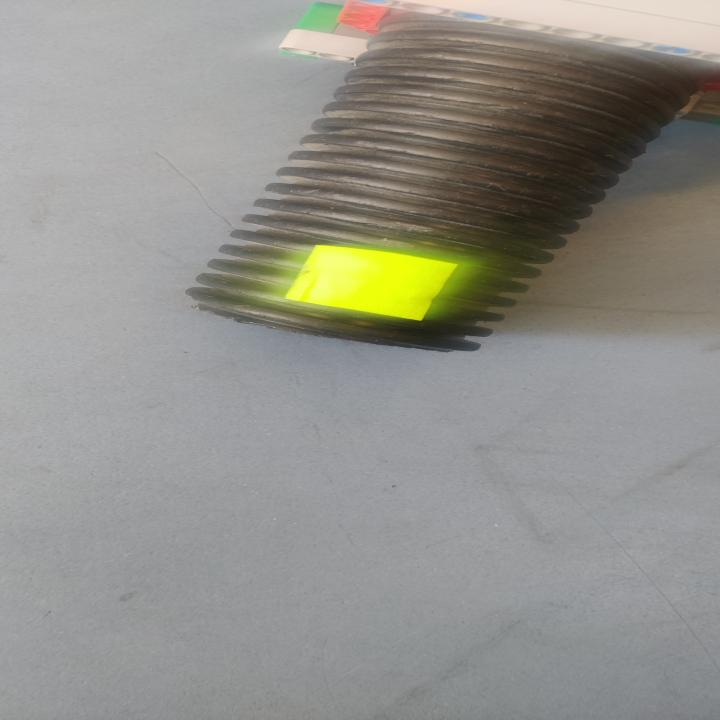robot-front: (200, 54, 660, 344)
